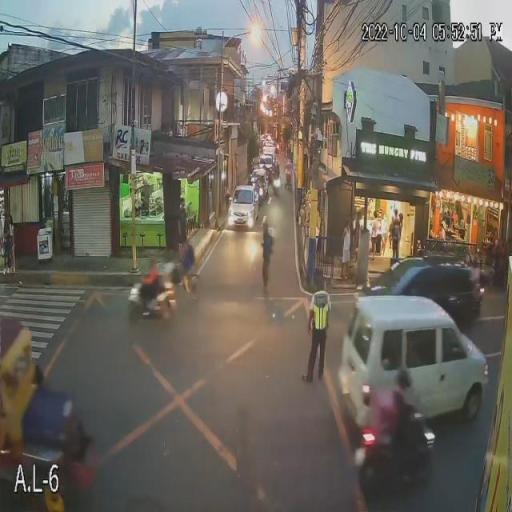motorcycle: (358, 428, 434, 494), (117, 282, 179, 324)
rider: (391, 373, 415, 490), (140, 252, 163, 325)
